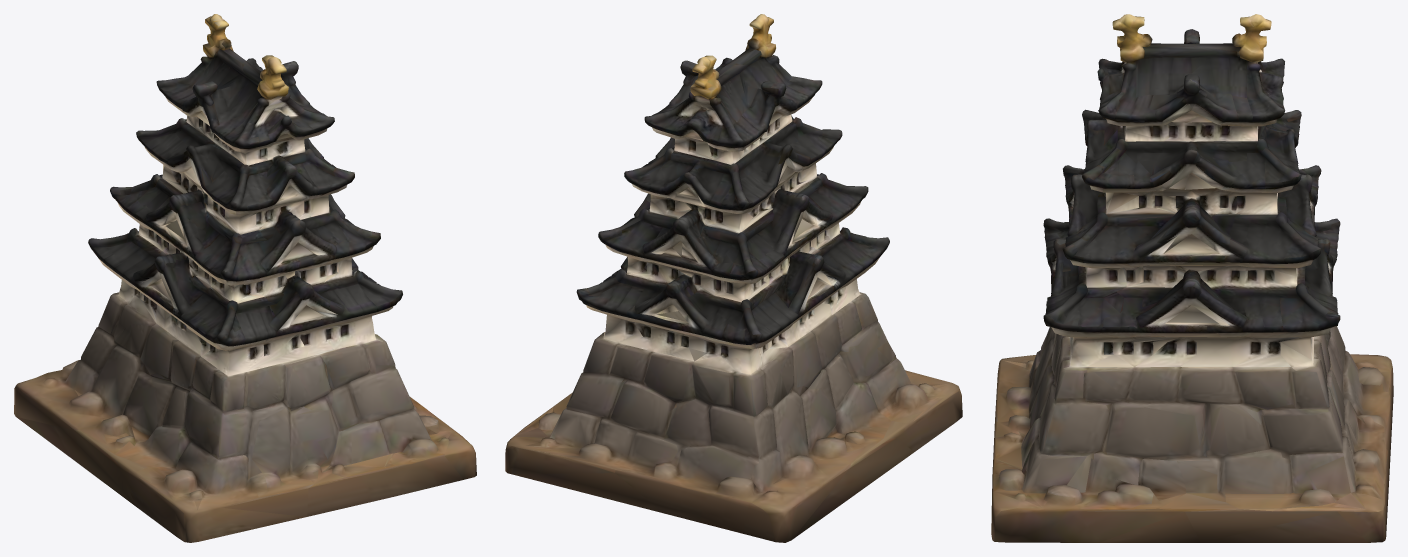
The model's file is keep3.glb.
3 renders of one model, left to right at view 1: azimuth 30°, elevation 25°; view 2: azimuth 150°, elevation 25°; view 3: azimuth 270°, elevation 25°, orthographic. The views are drawn at different scales.
Parts seen in each view (by area): view 1: tripo_node_dc1ba7de-71ae-4617-877e-b372472a9ac8; view 2: tripo_node_dc1ba7de-71ae-4617-877e-b372472a9ac8; view 3: tripo_node_dc1ba7de-71ae-4617-877e-b372472a9ac8.
Part boxes in pixels (bbox=[...]): tripo_node_dc1ba7de-71ae-4617-877e-b372472a9ac8: bbox=[14, 14, 476, 542]; tripo_node_dc1ba7de-71ae-4617-877e-b372472a9ac8: bbox=[505, 14, 962, 542]; tripo_node_dc1ba7de-71ae-4617-877e-b372472a9ac8: bbox=[991, 14, 1393, 542].
Size of the model in its own units: 0.7282 by 0.9794 by 0.7912.
1 material, 1 textured.
